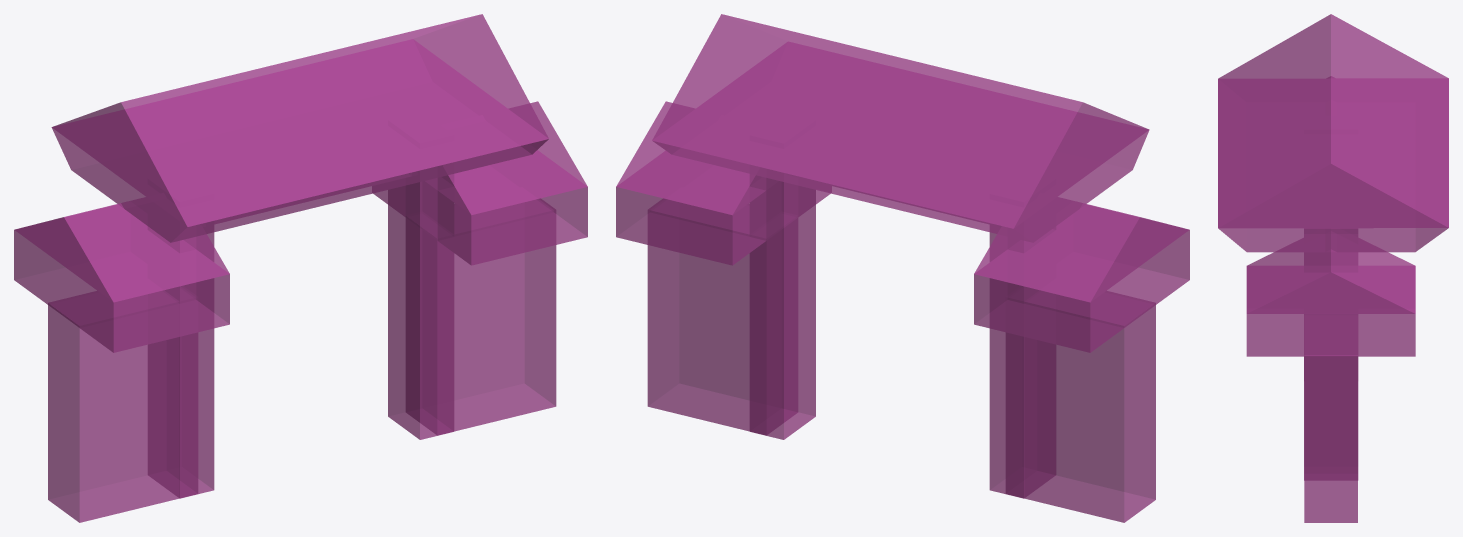
File: SM_Bld_Gate_Dobei_03_Collision_01.fbx
The picture shows the model from 3 angles, left to right: view 1: azimuth 30°, elevation 25°; view 2: azimuth 150°, elevation 25°; view 3: azimuth 270°, elevation 25°; orthographic projection. The views are drawn at different scales.
Parts seen in each view (by area): view 1: SM_Bld_Gate_Dobei_03_Collision_01; view 2: SM_Bld_Gate_Dobei_03_Collision_01; view 3: SM_Bld_Gate_Dobei_03_Collision_01.
Part boxes in pixels (left/top/right/bottom): SM_Bld_Gate_Dobei_03_Collision_01: left=14, top=14, right=587, bottom=522; SM_Bld_Gate_Dobei_03_Collision_01: left=616, top=14, right=1189, bottom=522; SM_Bld_Gate_Dobei_03_Collision_01: left=1218, top=14, right=1448, bottom=522.
Bounding box in the file's own units: 510 × 404 × 252.
